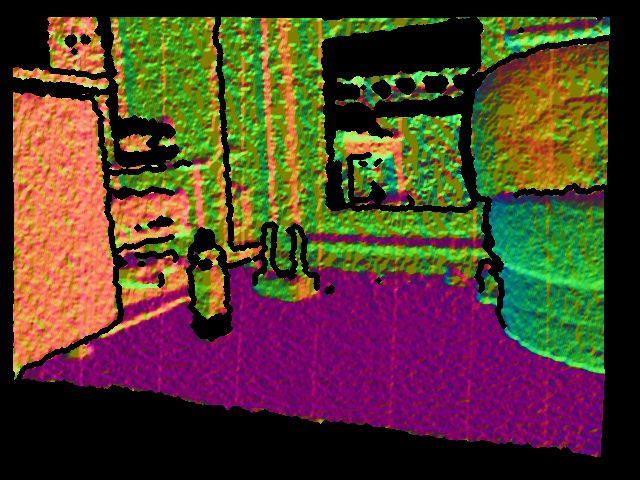station: (251, 224, 320, 302)
